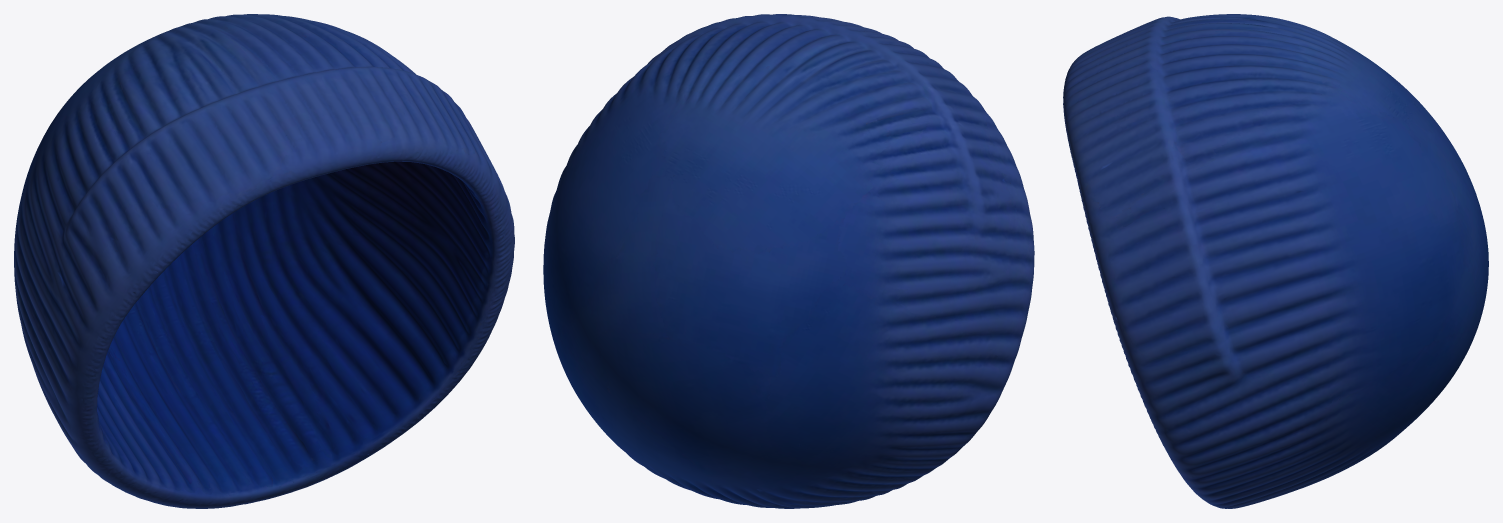
3 views of the same model, side by side, from view 1: azimuth 30°, elevation 25°; view 2: azimuth 150°, elevation 25°; view 3: azimuth 270°, elevation 25° (orthographic). The views are drawn at different scales.
Parts seen in each view (by area): view 1: node_0; view 2: node_0; view 3: node_0.
Boxes of the visible parts, left/top/right/bottom form: node_0: left=14, top=14, right=514, bottom=508; node_0: left=543, top=14, right=1034, bottom=508; node_0: left=1063, top=14, right=1488, bottom=508.
Bounding box in the file's own units: 1.02 × 1.03 × 0.8934.
Materials: 1 (1 with a texture image).
